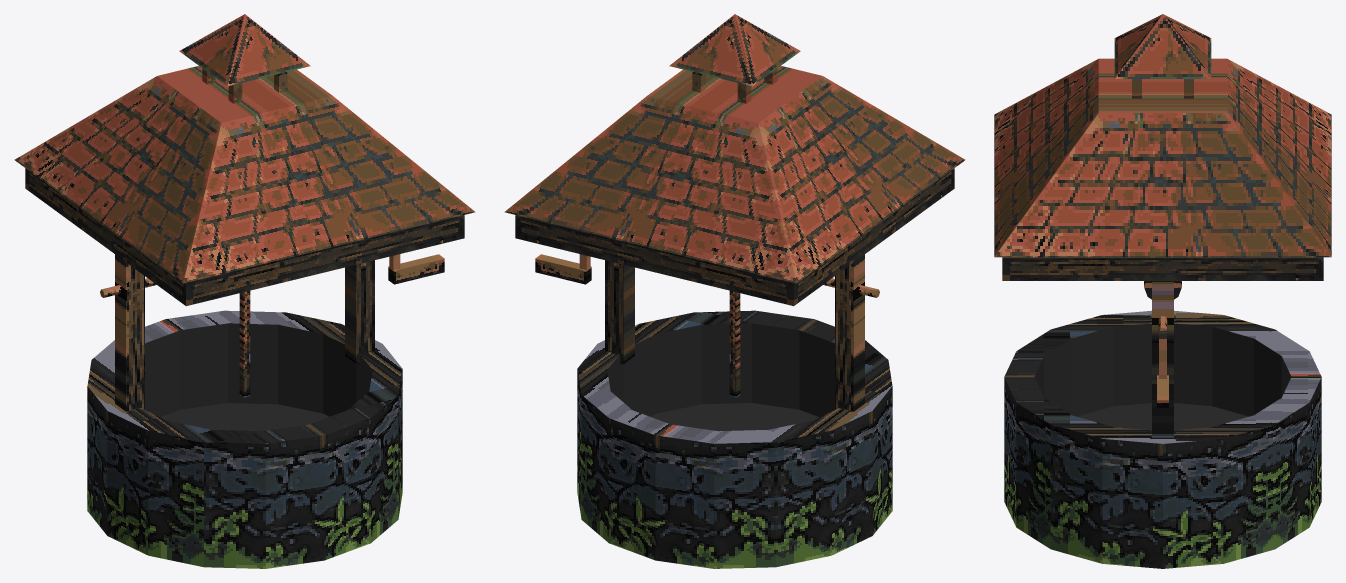
The model's file is well.glb.
3 views of the same model, side by side, from view 1: azimuth 30°, elevation 25°; view 2: azimuth 150°, elevation 25°; view 3: azimuth 270°, elevation 25° (orthographic).
Visible parts, largest first — view 1: well-212-0; view 2: well-212-0; view 3: well-212-0.
Boxes of the visible parts, <box> form: well-212-0: <box>14,14,475,568</box>; well-212-0: <box>504,14,965,568</box>; well-212-0: <box>994,14,1331,568</box>.
Size of the model in its own units: 1.97 by 2.68 by 1.68.
1 material, 1 textured.
